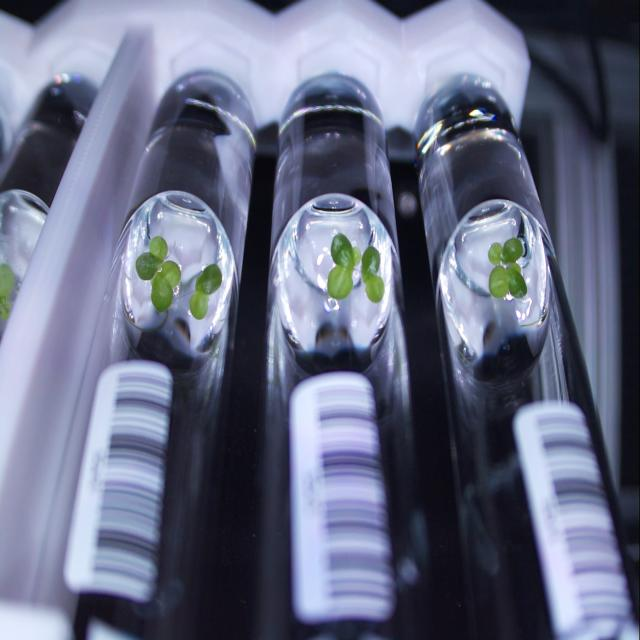Lemna-Gibba: (135, 237, 181, 312), (328, 233, 361, 299), (190, 264, 222, 320), (361, 245, 385, 302), (489, 264, 528, 299), (489, 237, 524, 265)
